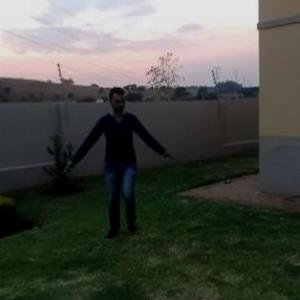land: (67, 78, 174, 237)
